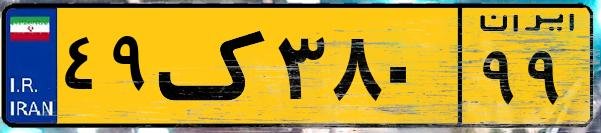0: (385, 28, 445, 110)
3: (270, 28, 330, 110)
4: (57, 26, 110, 100)
8: (330, 28, 385, 110)
9: (475, 38, 525, 113), (525, 38, 570, 115), (110, 28, 158, 98)
ک: (158, 12, 270, 120)
